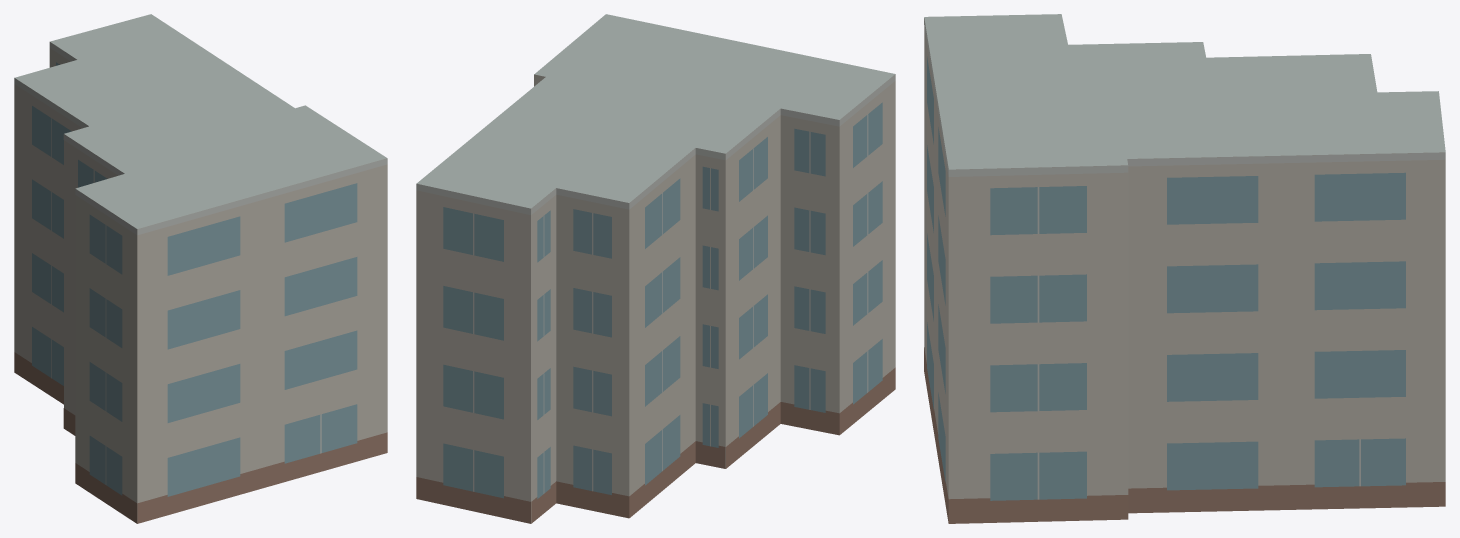
The model's file is survey-upis-32869538.glb.
3 views of the same model, side by side, from view 1: azimuth 30°, elevation 25°; view 2: azimuth 150°, elevation 25°; view 3: azimuth 270°, elevation 25° (orthographic). The views are drawn at different scales.
Parts seen in each view (by area): view 1: survey-upis-32869538.tmp; view 2: survey-upis-32869538.tmp; view 3: survey-upis-32869538.tmp.
Part boxes in pixels (box(x1,y1,x2,y2)): survey-upis-32869538.tmp: box(14, 14, 387, 523); survey-upis-32869538.tmp: box(416, 14, 895, 523); survey-upis-32869538.tmp: box(924, 14, 1445, 523).
Size of the model in its own units: 10.94 by 11.6 by 15.49.
